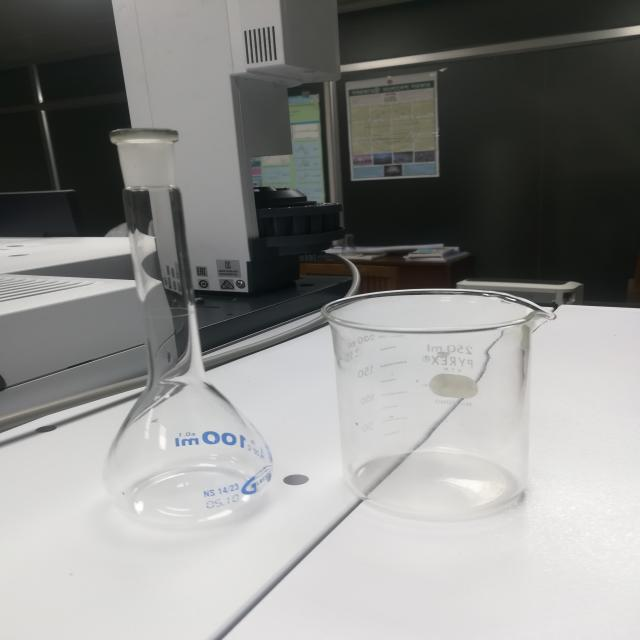Beaker: (306, 272, 602, 538)
Volumetric_Flask: (62, 105, 296, 550)
